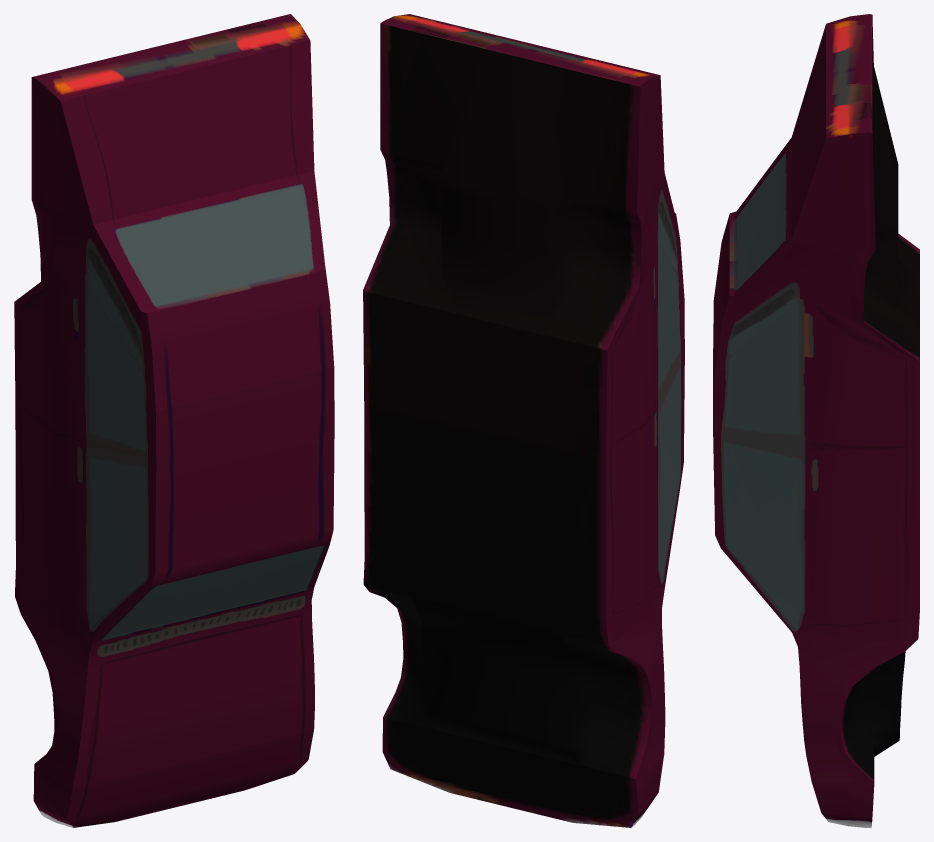
Rendered from kit-10.glb.
3 renders of one model, left to right at view 1: azimuth 30°, elevation 25°; view 2: azimuth 150°, elevation 25°; view 3: azimuth 270°, elevation 25°, orthographic. The views are drawn at different scales.
Visible parts, largest first — view 1: Object_20; view 2: Object_20; view 3: Object_20.
Part boxes in pixels (x1=…): Object_20: x1=14, y1=14, x2=334, y2=827; Object_20: x1=363, y1=14, x2=684, y2=827; Object_20: x1=713, y1=14, x2=919, y2=827.
Bounding box in the file's own units: 2.07 × 5.75 × 1.52.
Materials: 1 (1 with a texture image).
